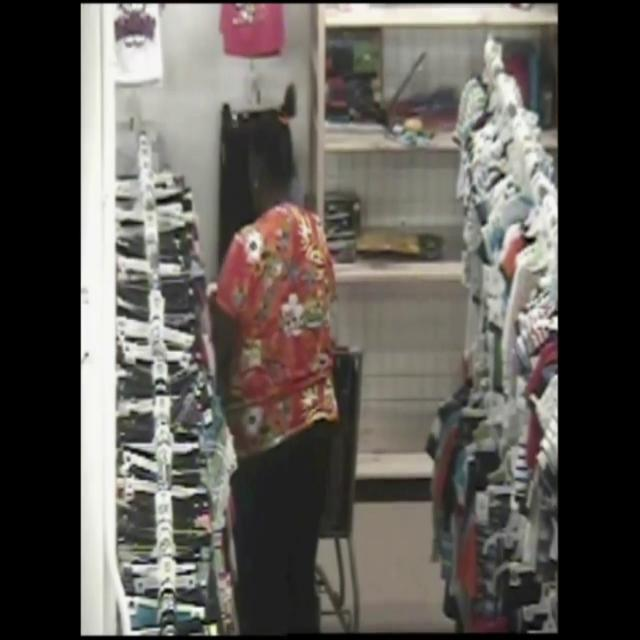normal: (180, 65, 382, 640)
